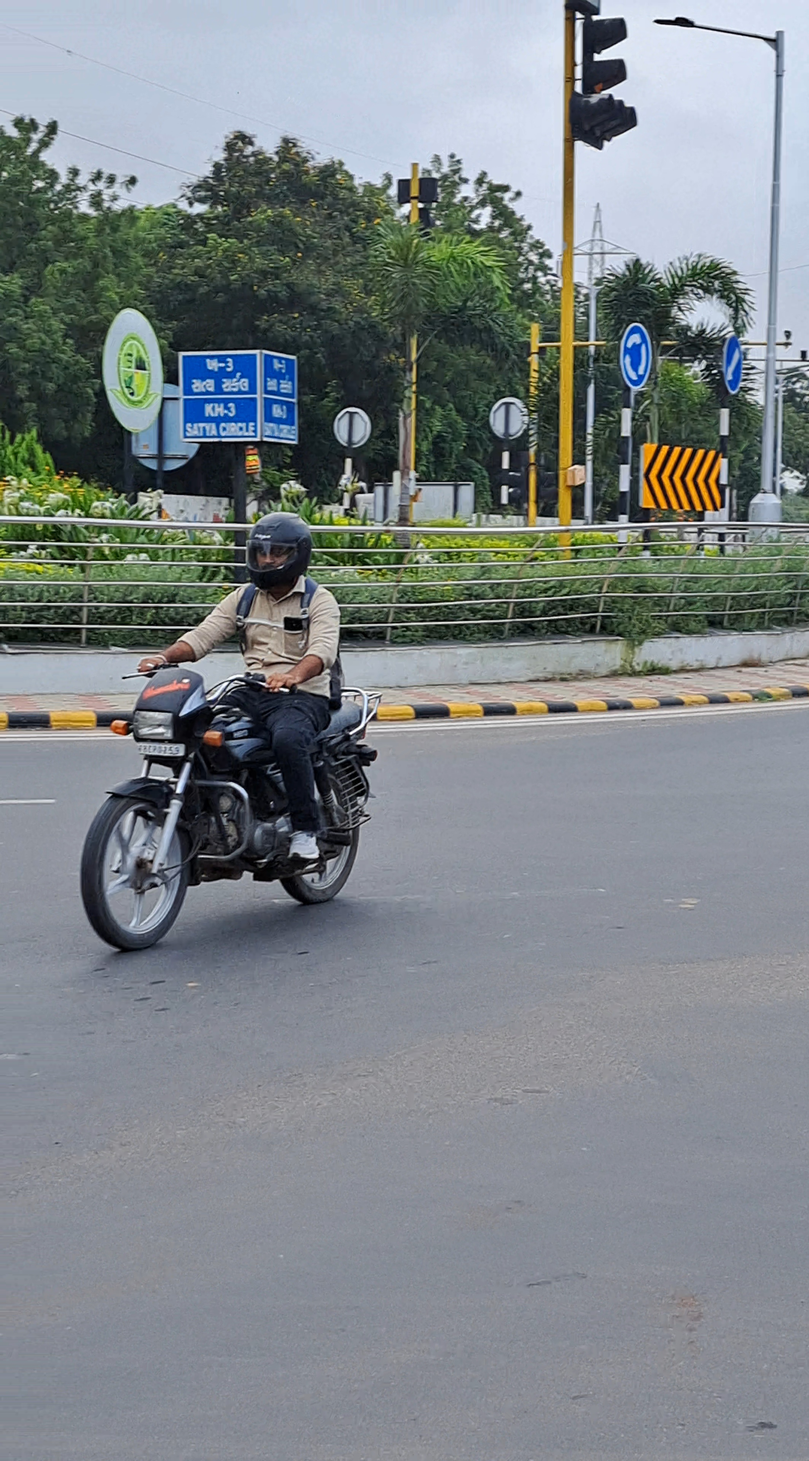BikeWithRider: (56, 507, 401, 961)
Helmet: (226, 511, 337, 595)
